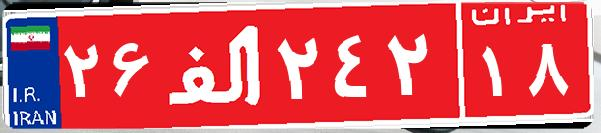1: (475, 38, 525, 113)
2: (385, 28, 445, 110), (273, 28, 330, 110), (57, 26, 110, 107)
4: (330, 28, 385, 110)
6: (110, 28, 158, 105)
8: (525, 38, 570, 115)
الف: (158, 15, 273, 115)
